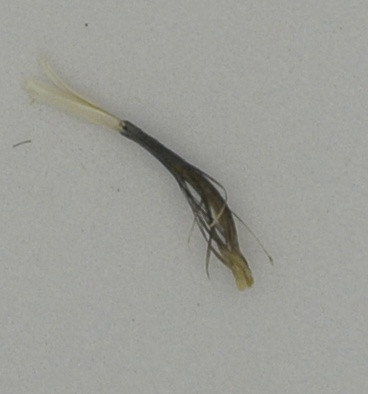เมล้ดปลายพู่กัน: (21, 50, 274, 296)
